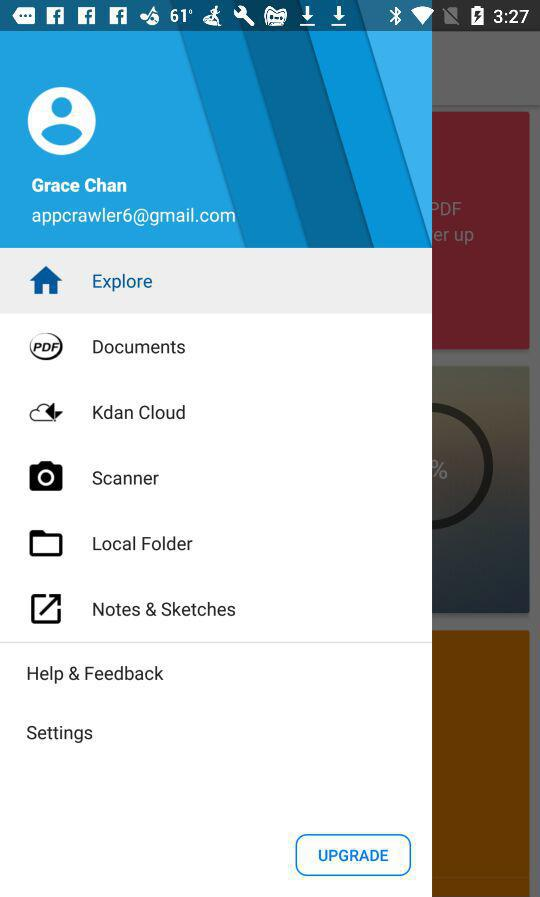Drawer: (1, 32, 432, 897)
Icon: (27, 86, 97, 157), (29, 460, 65, 492), (30, 266, 65, 296), (29, 529, 65, 558), (31, 593, 63, 625), (29, 403, 65, 423)
Image: (30, 333, 65, 362)
Text: (31, 207, 237, 228), (26, 665, 165, 685), (91, 600, 237, 617), (93, 535, 195, 552), (92, 403, 187, 421), (32, 178, 128, 195), (93, 339, 187, 356), (27, 725, 94, 745), (93, 273, 154, 294), (92, 470, 160, 487)
TextButton: (295, 834, 412, 877)
UpperTaskBar: (1, 1, 540, 33)
